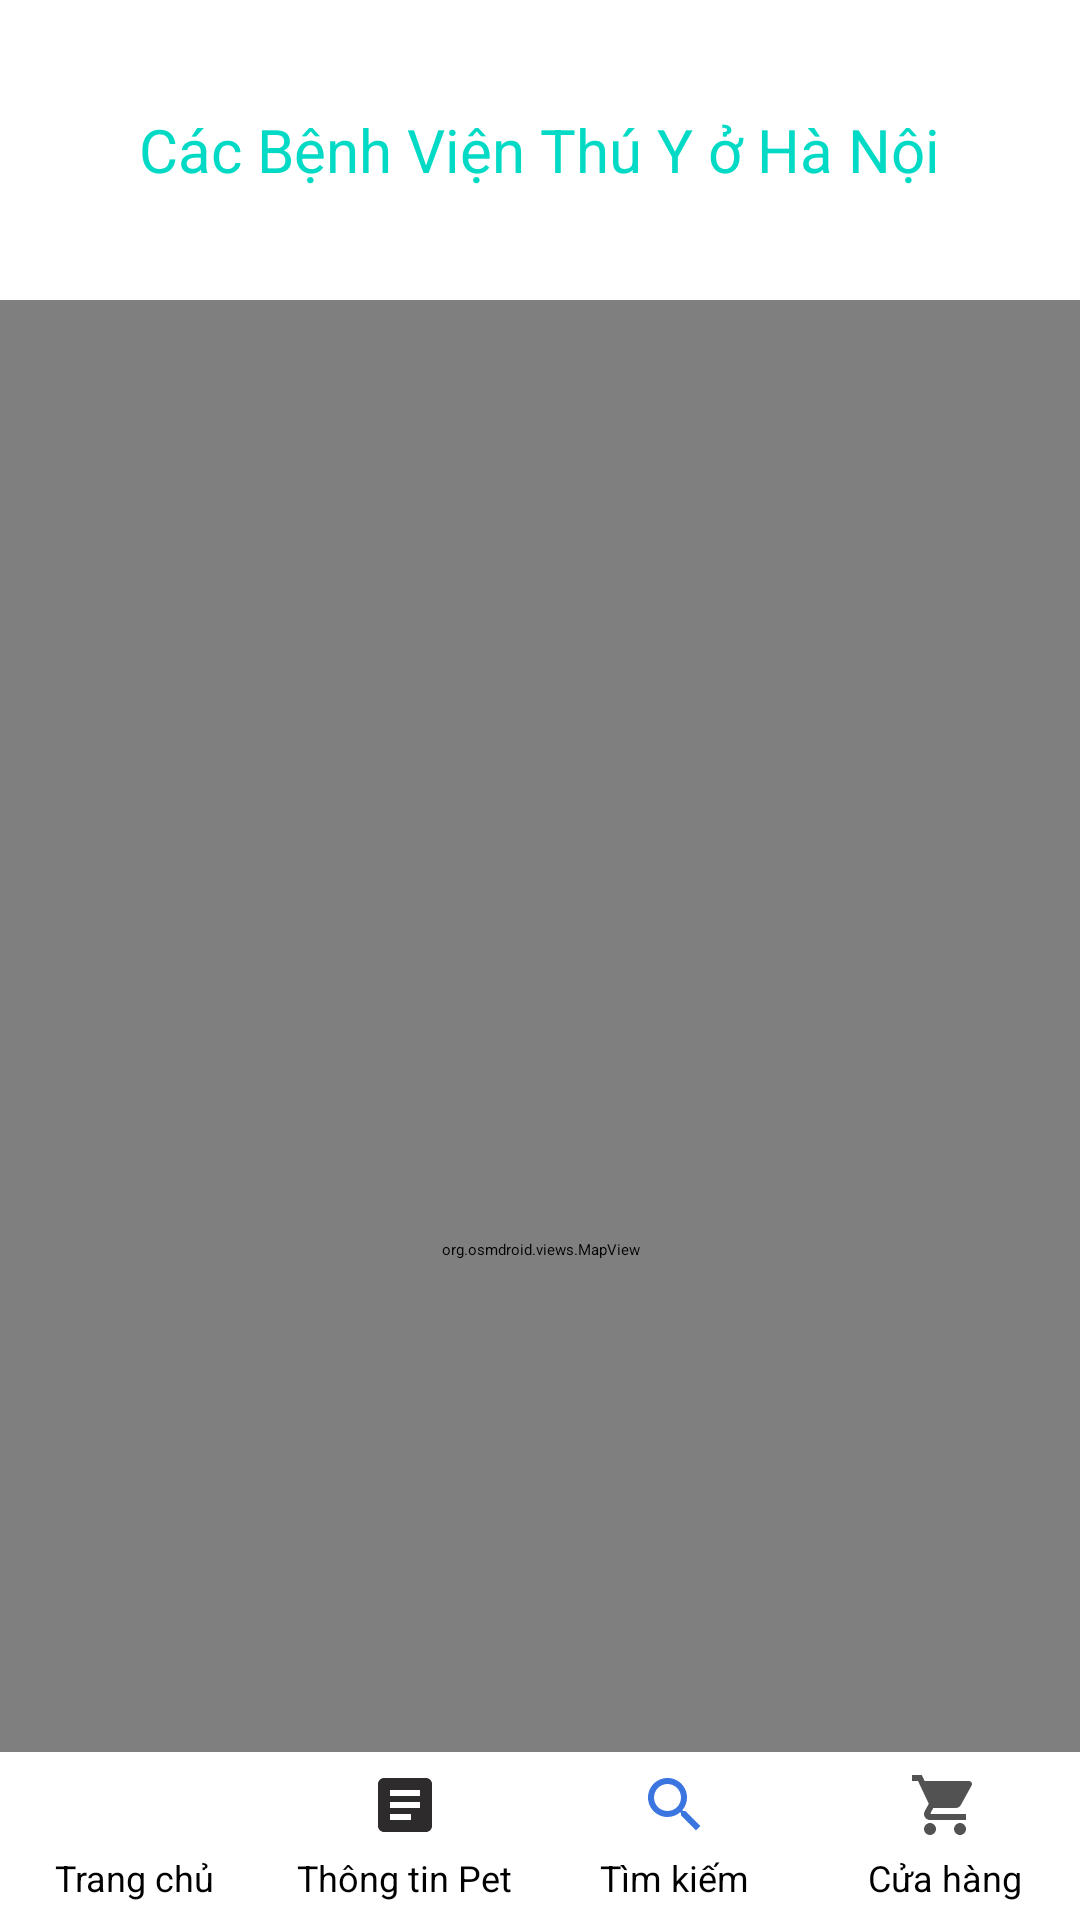

Icon click points for this 1080px x 1920px phone screenshot, format (x,y):
article: (405,1805)
cart: (942,1805)
